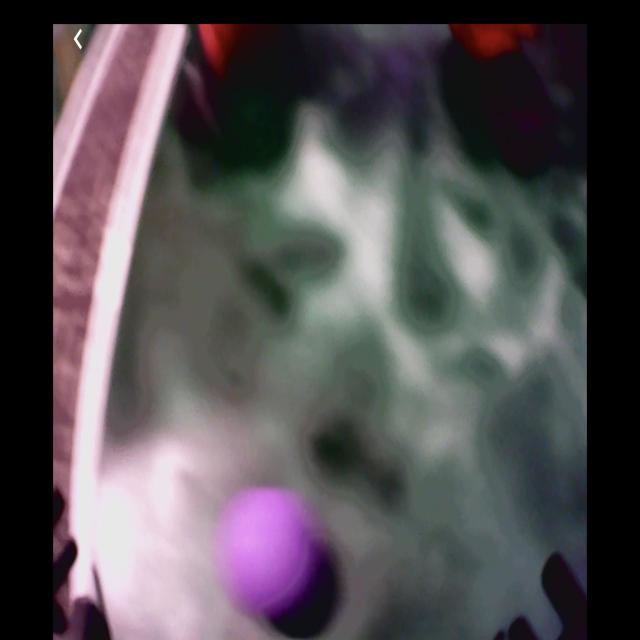ball: (229, 484, 318, 619)
